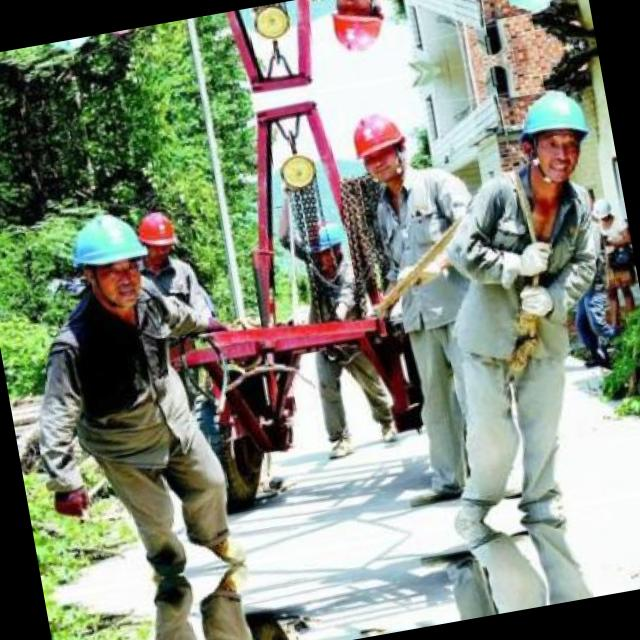helmet: (506, 78, 600, 194), (64, 205, 154, 309), (346, 102, 414, 194), (324, 0, 390, 62), (128, 206, 182, 270), (302, 216, 348, 276), (484, 0, 571, 27), (588, 195, 614, 228)
